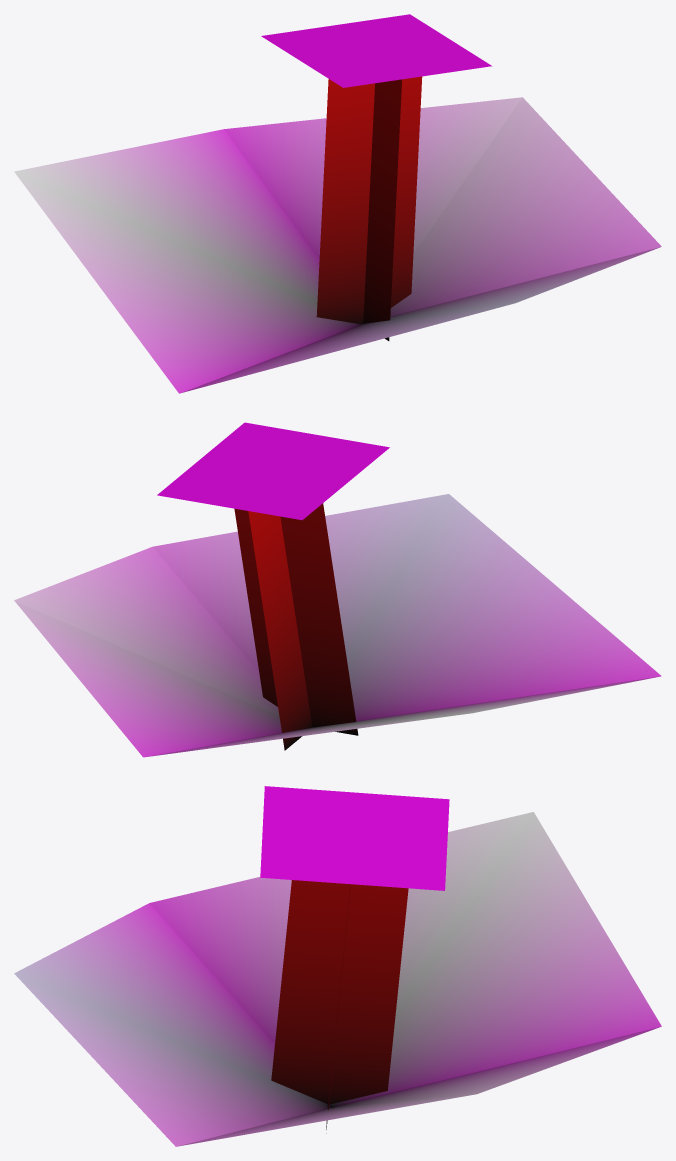
The model's file is dandelion_01_flower.dae.
3 views of the same model, one above another, from view 1: azimuth 30°, elevation 25°; view 2: azimuth 150°, elevation 25°; view 3: azimuth 270°, elevation 25° (orthographic). The views are drawn at different scales.
Visible parts, largest first — view 1: dandelion_flower8; view 2: dandelion_flower8; view 3: dandelion_flower8.
Boxes of the visible parts, x1,y1,x2,y2 form: dandelion_flower8: (14,14,661,393); dandelion_flower8: (14,422,661,757); dandelion_flower8: (14,786,661,1146).
Bounding box in the file's own units: 0.2705 × 0.2822 × 0.1431.
